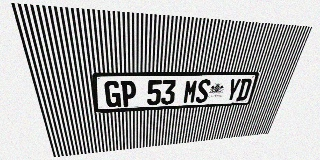3: (161, 80, 176, 105)
5: (147, 80, 162, 105)
D: (236, 78, 253, 101)
G: (104, 81, 121, 108)
M: (183, 79, 199, 104)
P: (121, 80, 136, 107)
S: (195, 79, 211, 103)
Y: (225, 79, 242, 101)
